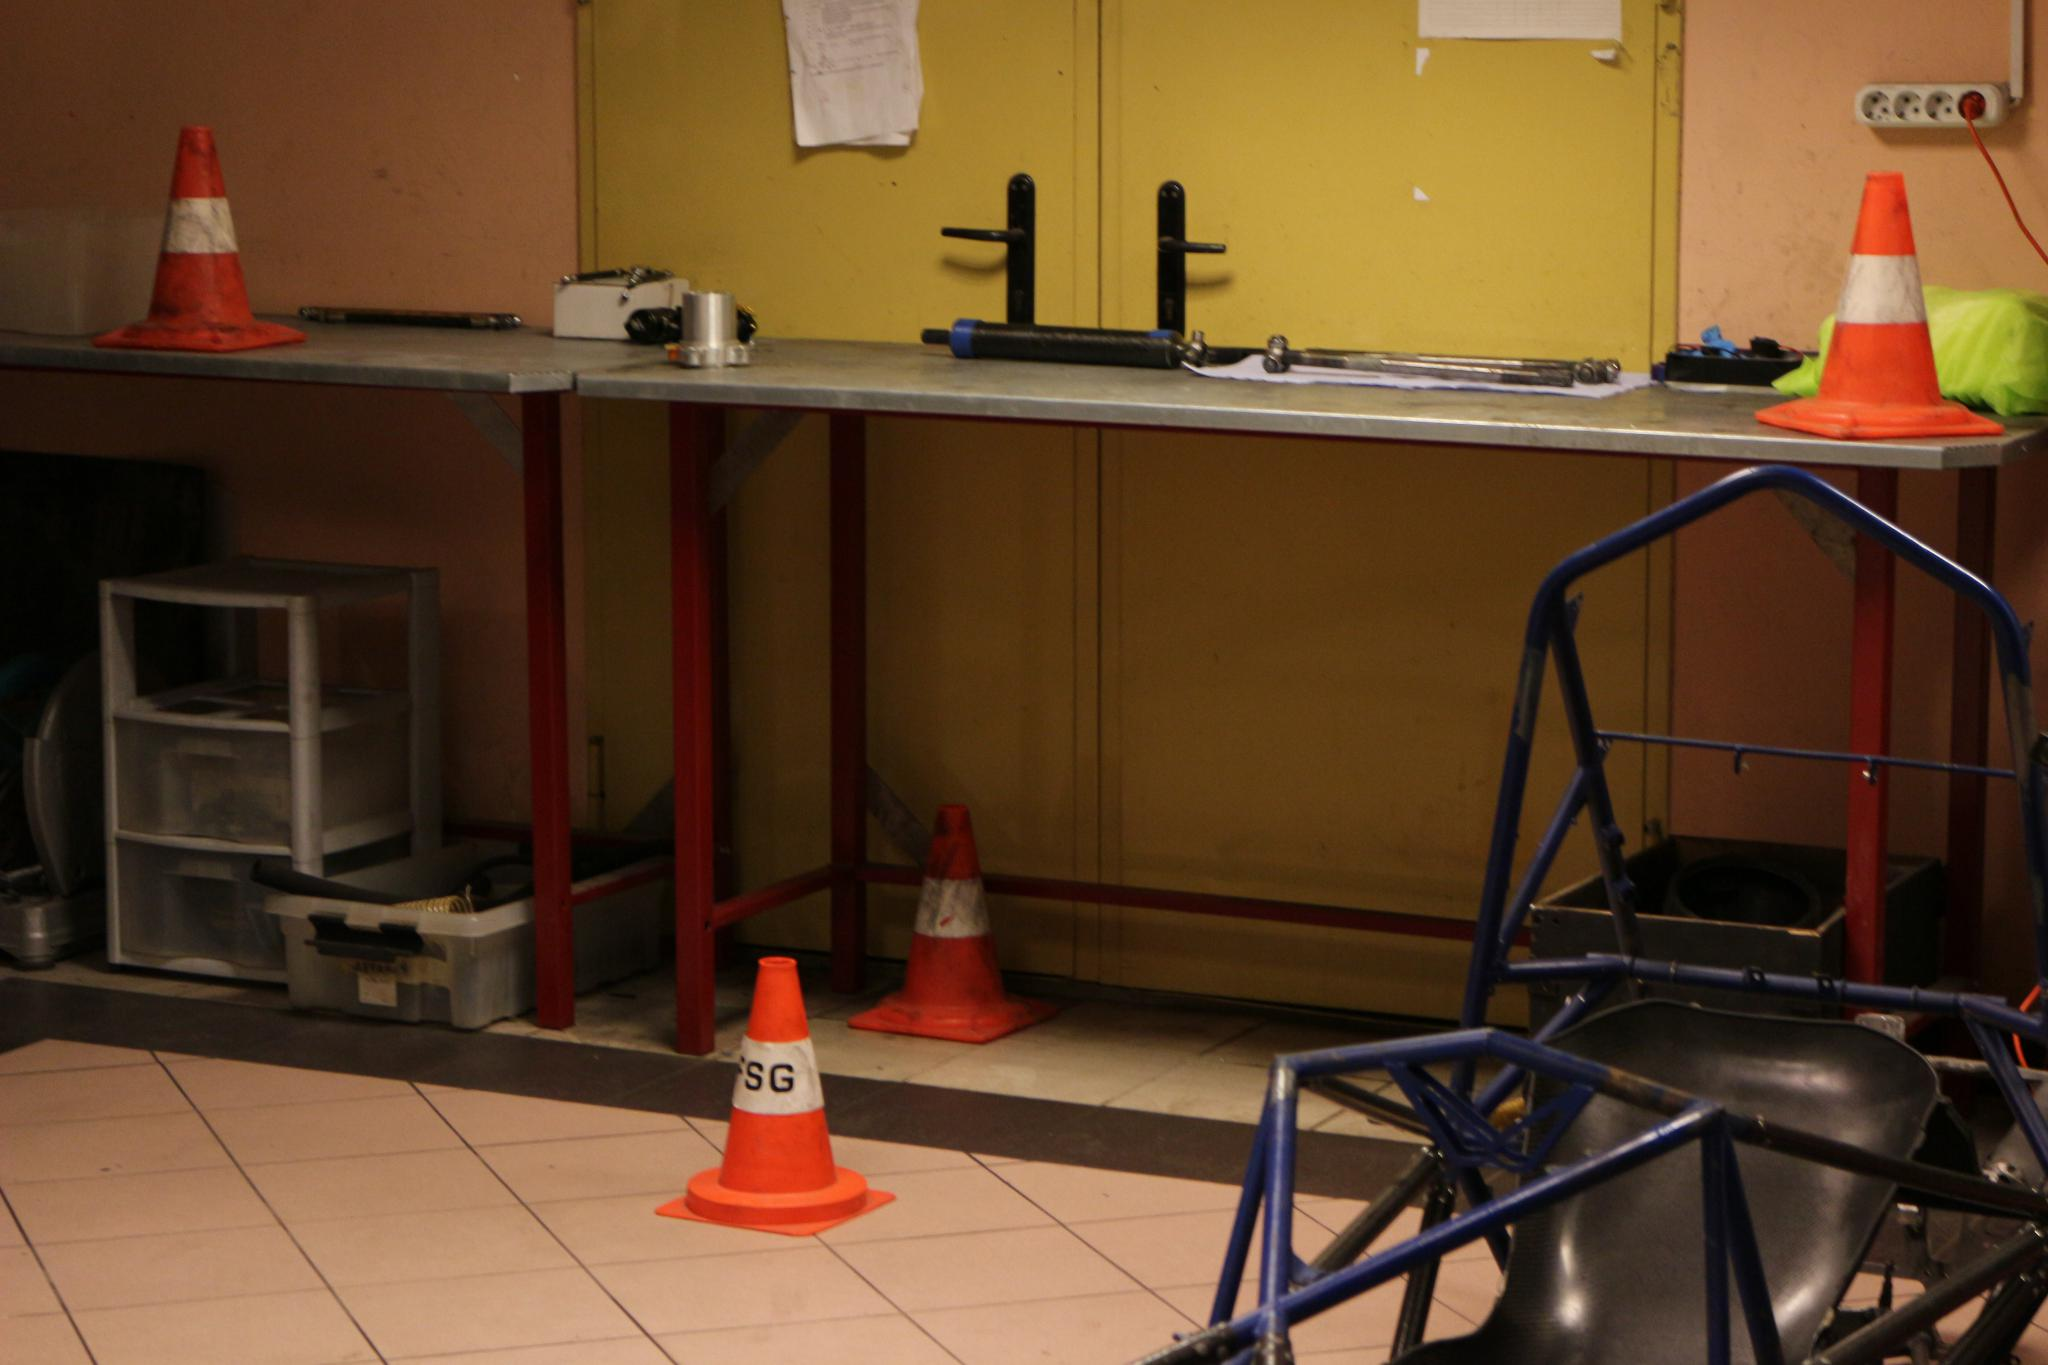Orange_Cone: (1783, 160, 2004, 448), (672, 937, 874, 1223), (104, 123, 294, 360), (860, 800, 1043, 1031)
